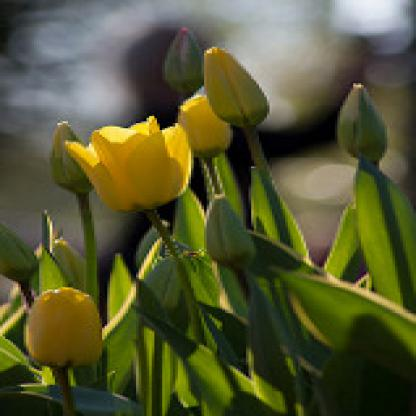TULIP: (14, 43, 394, 384)
